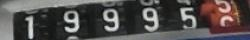digits: (214, 0, 234, 26), (141, 7, 159, 31), (179, 6, 197, 27), (63, 9, 79, 32), (102, 8, 118, 31), (24, 14, 34, 39)
